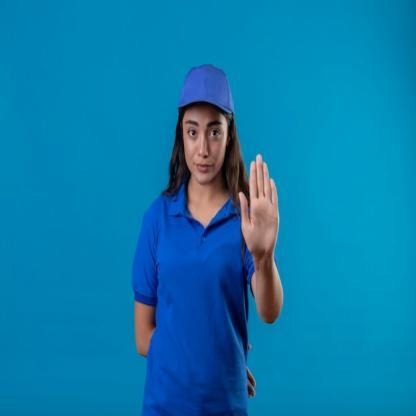stop: (237, 152, 282, 261)
